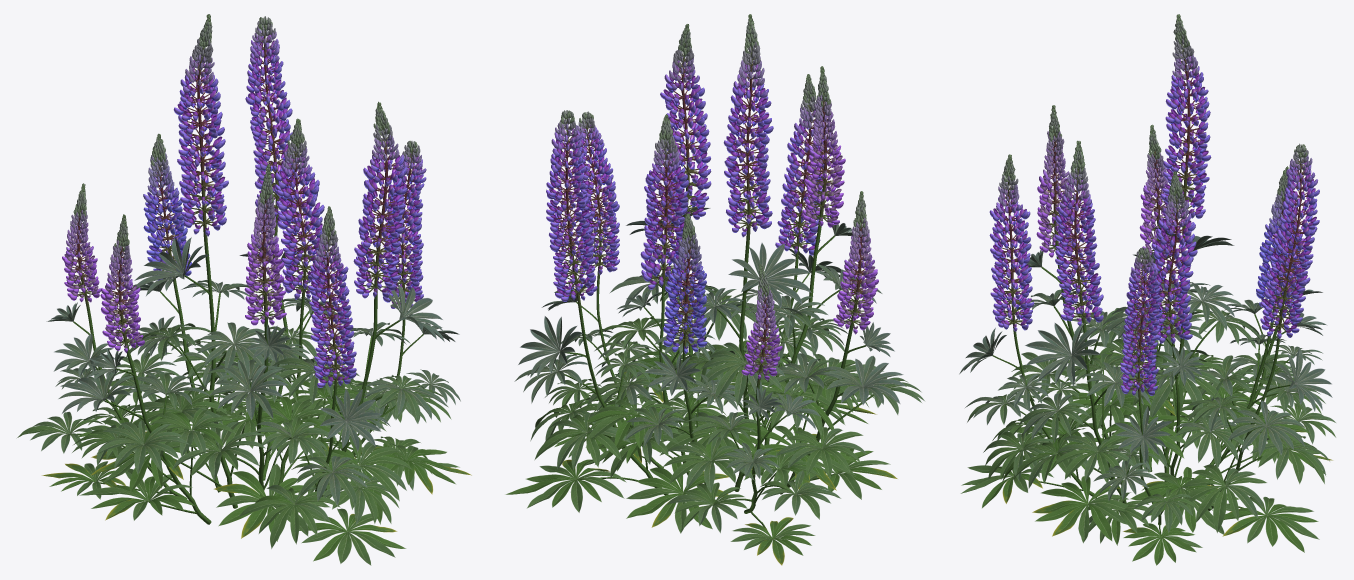
Rendered from realistic_hd_large-leaved_lupine_918.glb.
The picture shows the model from 3 angles, left to right: view 1: azimuth 30°, elevation 25°; view 2: azimuth 150°, elevation 25°; view 3: azimuth 270°, elevation 25°; orthographic projection. The views are drawn at different scales.
Parts seen in each view (by area): view 1: Lupinus_polyphyllus_HD; view 2: Lupinus_polyphyllus_HD; view 3: Lupinus_polyphyllus_HD.
Boxes of the visible parts, box(x1,y1,x2,y2) form: Lupinus_polyphyllus_HD: box(17, 14, 471, 565); Lupinus_polyphyllus_HD: box(505, 14, 924, 565); Lupinus_polyphyllus_HD: box(959, 14, 1335, 565).
Size of the model in its own units: 1.05 by 1.31 by 0.9779.
35 materials, 35 textured.
